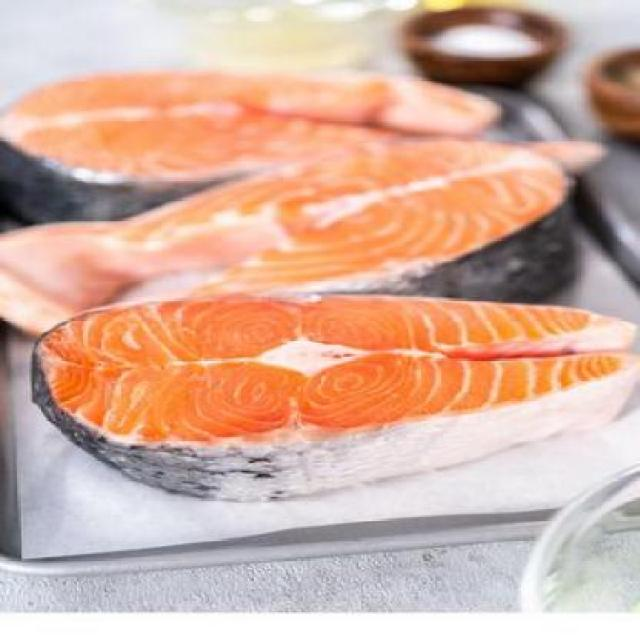salmon: (1, 137, 612, 353), (18, 289, 640, 495), (8, 57, 549, 235)
